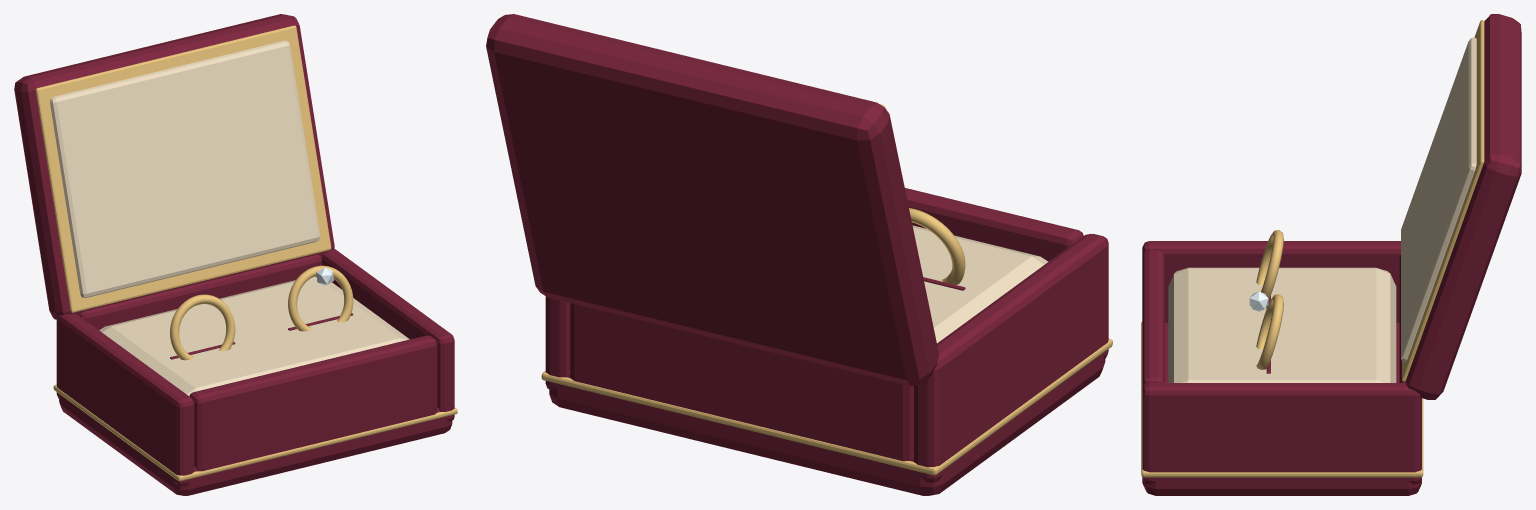
Rendered from wedding_ring_box.glb.
3 renders of one model, left to right at view 1: azimuth 30°, elevation 25°; view 2: azimuth 150°, elevation 25°; view 3: azimuth 270°, elevation 25°, orthographic. The views are drawn at different scales.
Parts seen in each view (by area): view 1: wedding_ring_box; view 2: wedding_ring_box; view 3: wedding_ring_box.
Boxes of the visible parts, left/top/right/bottom form: wedding_ring_box: left=14, top=14, right=457, bottom=495; wedding_ring_box: left=486, top=14, right=1112, bottom=495; wedding_ring_box: left=1141, top=14, right=1521, bottom=495.
Bounding box in the file's own units: 0.161 × 0.1682 × 0.17.
